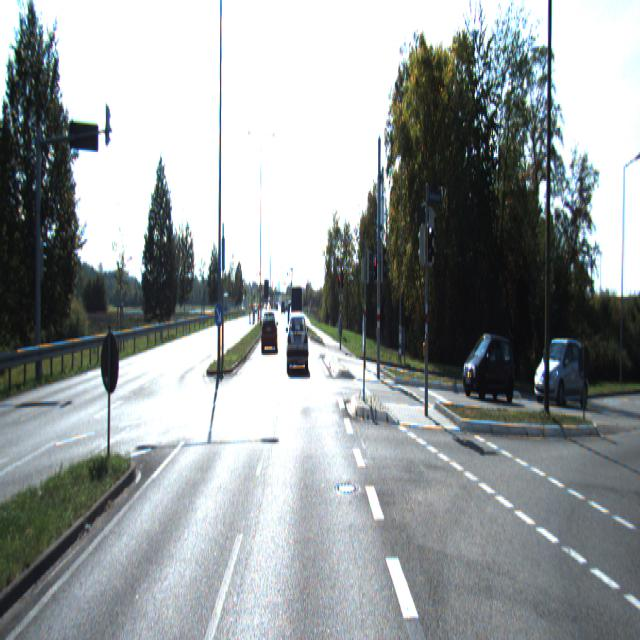Car: (532, 334, 589, 412), (463, 331, 516, 403), (287, 316, 309, 374), (261, 309, 279, 353), (291, 285, 303, 340)
